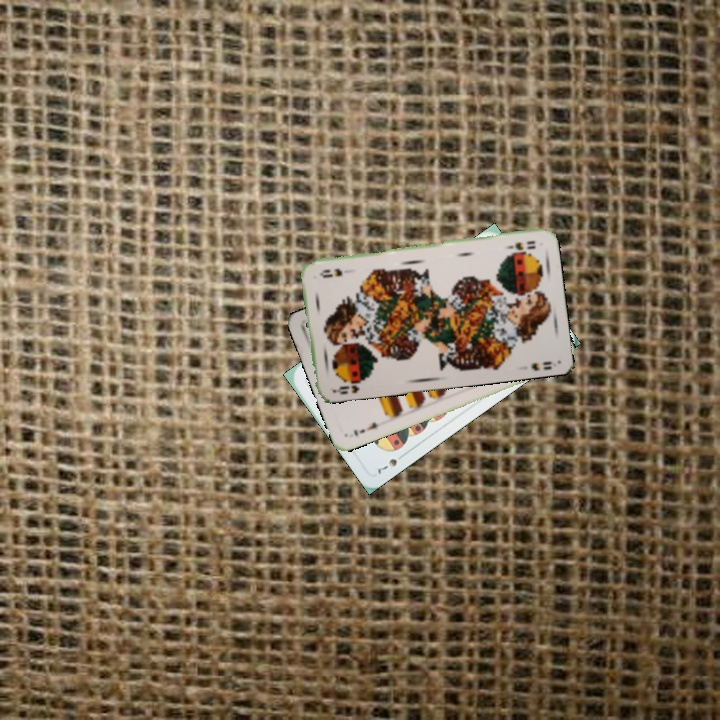E7: (350, 418, 385, 439)
S7: (373, 449, 408, 477)
SO: (329, 374, 369, 397), (503, 237, 539, 253)
